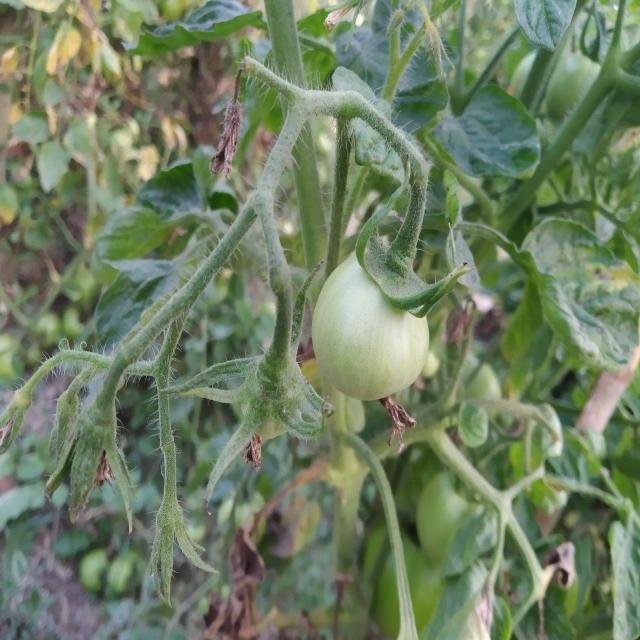Unripe: (313, 243, 429, 400)
